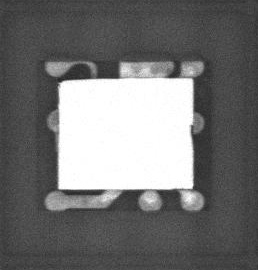DIE_BROKEN: (56, 76, 86, 83)
